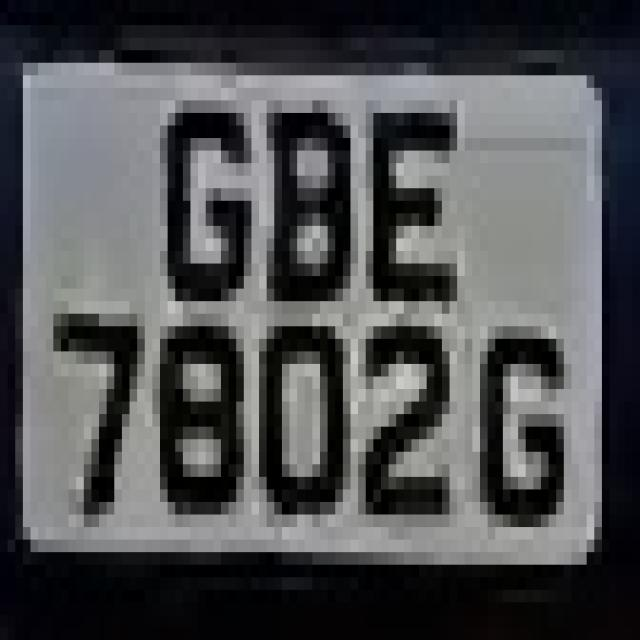0: (229, 314, 358, 540)
2: (343, 289, 465, 552)
7: (38, 264, 145, 564)
8: (152, 276, 259, 565)
B: (244, 100, 350, 339)
E: (350, 75, 465, 301)
G: (472, 276, 587, 565), (129, 50, 244, 314)
